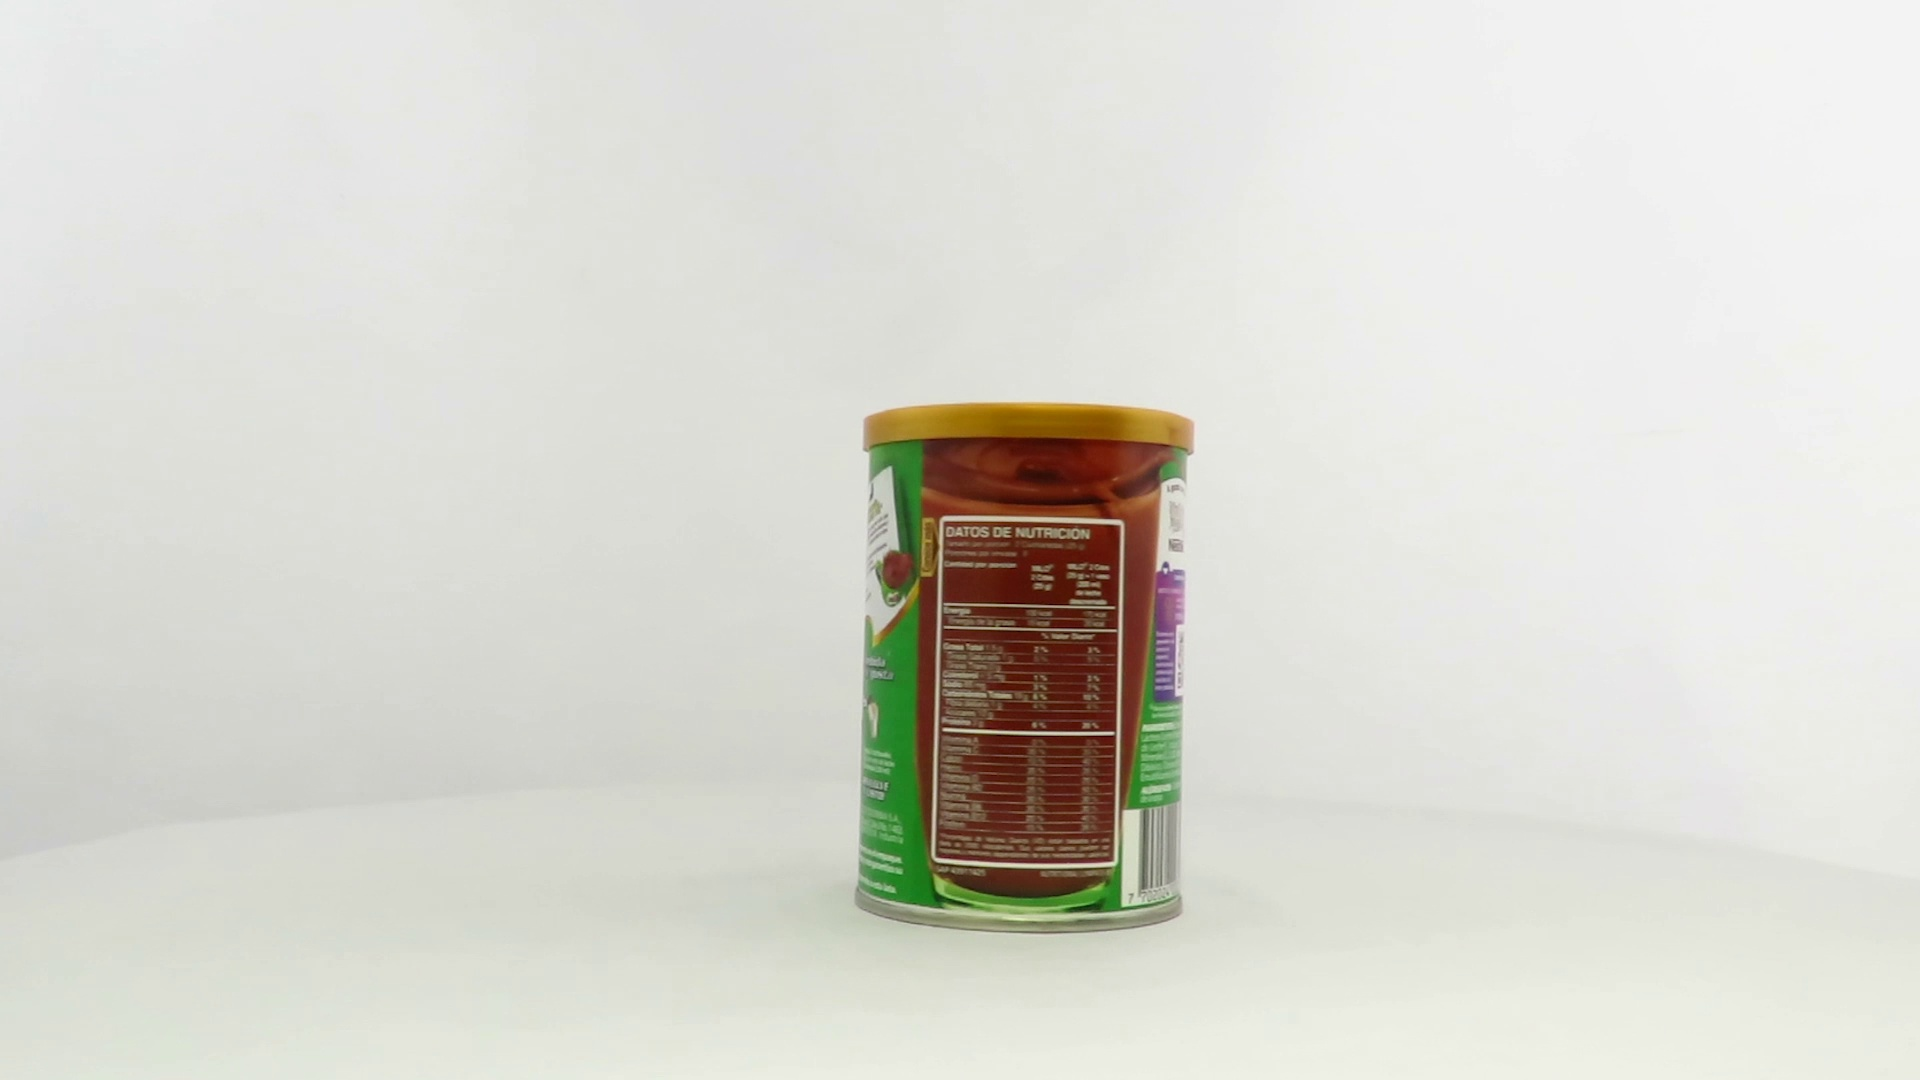COL0170203LAT20000: (849, 397, 1201, 940)
